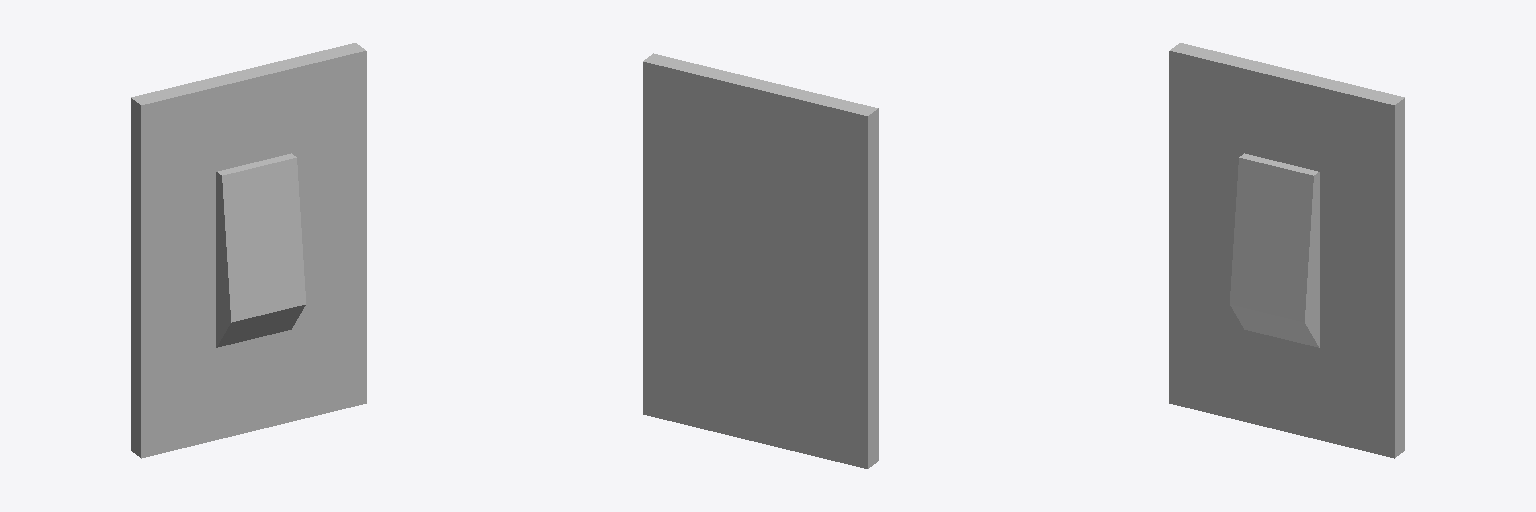
File: Light_Switch.obj
The picture shows the model from 3 angles: view 1: azimuth 30°, elevation 25°; view 2: azimuth 150°, elevation 25°; view 3: azimuth 330°, elevation 25°; orthographic projection.
Parts seen in each view (by area): view 1: Light_Switch; view 2: Light_Switch; view 3: Light_Switch.
Part boxes in pixels (x1,y1,x2,y2): Light_Switch: (131,43,366,458); Light_Switch: (643,53,878,468); Light_Switch: (1169,43,1404,458).
Bounding box in the file's own units: 13.02 × 19.52 × 2.57.